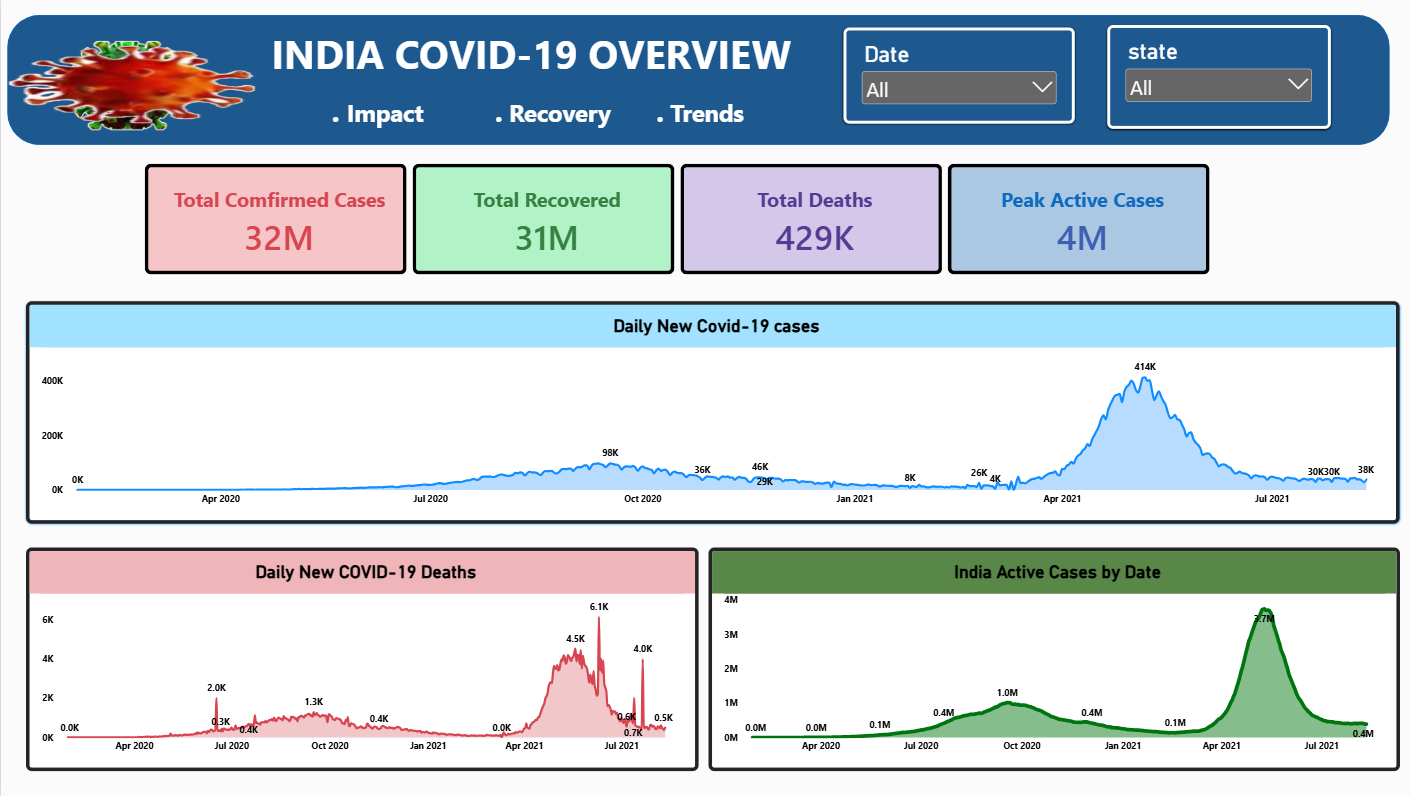

What the dashboard file says about the page in this screenshot:
{"tool":"powerbi","page":{"name":"India COVID-19 Overview","canvas":[1920,1080],"ordinal":0},"visuals":[{"type":"shape","box":[8.6,20.7,1874.6,176.4],"z":0,"group":"g1"},{"type":"lineChart","title":"Daily New Covid-19  cases ","fields":{"Category":["Calender.Date"],"Y":["covid_india.Daily New cases"]},"box":[33.9,408.5,1862.7,301.7],"z":0},{"type":"slicer","fields":{"Values":["covid_india.state"]},"box":[1500.4,35,303,140.7],"z":1000,"group":"g1"},{"type":"lineChart","title":"Daily New COVID-19 Deaths","fields":{"Y":["covid_india.Daily New Deaths"],"Category":["Calender.Date"]},"box":[33.9,742.4,911.9,303.4],"z":1000},{"type":"textbox","box":[322.3,35.3,779.3,182.8],"z":2000,"group":"g1"},{"type":"lineChart","fields":{"Category":["Calender.Date"],"Y":["covid_india.India Active Cases"]},"box":[959.3,742.4,937.3,303.4],"z":2000},{"type":"slicer","fields":{"Values":["Calender.Date"]},"box":[1142.5,38.4,313.6,130.5],"z":3000,"group":"g1"},{"type":"cardVisual","fields":{"Data":["covid_india.Total Comfirmed Cases","covid_india.Total Recovered","covid_india.Total Deaths","covid_india.Peak Active Cases"]},"box":[194.9,222,1446,150.3],"z":3000},{"type":"group","id":"g1","title":"Group 1","box":[8.6,20.7,1874.6,197.3],"z":4000},{"type":"image","box":[86.8,50.5,166.6,130.5],"z":4000,"group":"g1"},{"type":"image","box":[0,3.4,355.2,222.4],"z":5000}]}

Visuals, with their boxes in screenshot pixels (x1, y1, x2, y2), scaled from the page's 1920x1080 canvas onto the 1411x796 screenshot:
shape: <region>6, 15, 1384, 145</region>
"Daily New Covid-19  cases " lineChart: <region>25, 301, 1394, 523</region>
slicer - covid_india.state: <region>1103, 26, 1325, 129</region>
"Daily New COVID-19 Deaths" lineChart: <region>25, 547, 695, 771</region>
textbox: <region>237, 26, 810, 161</region>
lineChart - Calender.Date x covid_india.India Active Cases: <region>705, 547, 1394, 771</region>
slicer - Calender.Date: <region>840, 28, 1070, 124</region>
cardVisual - covid_india.Total Comfirmed Cases x covid_india.Total Recovered: <region>143, 164, 1206, 274</region>
"Group 1" group: <region>6, 15, 1384, 161</region>
image: <region>64, 37, 186, 133</region>
image: <region>0, 3, 261, 166</region>
